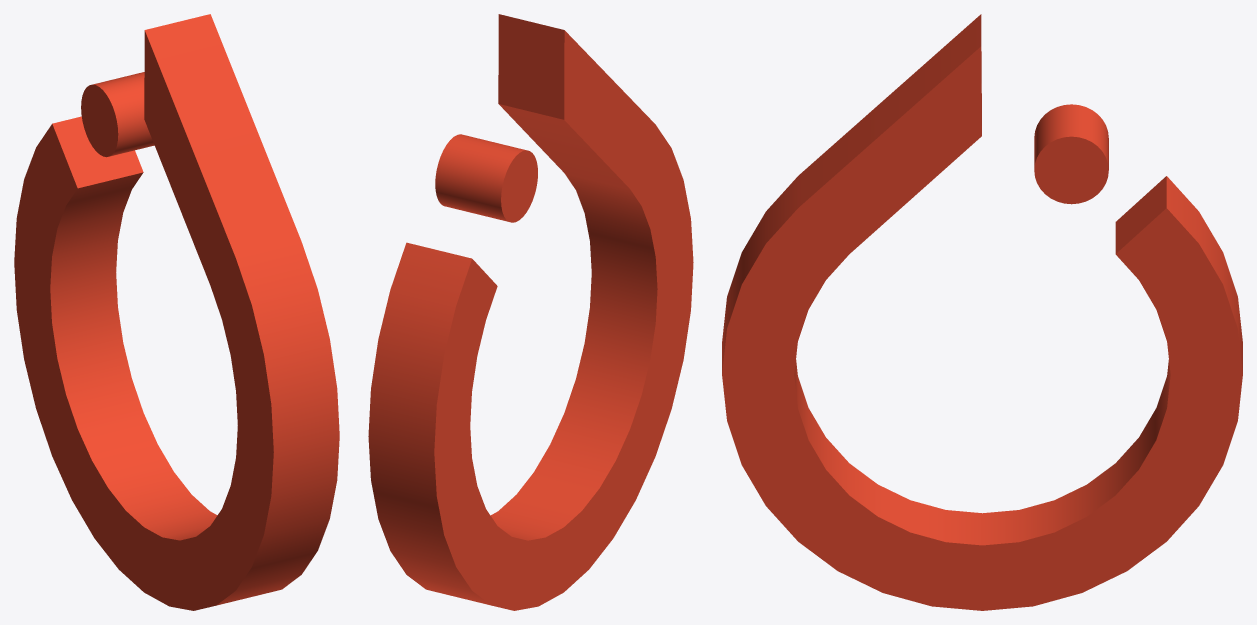
File: PyTorch.glb
3 renders of one model, left to right at view 1: azimuth 30°, elevation 25°; view 2: azimuth 150°, elevation 25°; view 3: azimuth 270°, elevation 25°, orthographic.
Parts seen in each view (by area): view 1: Circle.002; view 2: Circle.002; view 3: Circle.002.
Part boxes in pixels (x1,y1,x2,y2): Circle.002: [14, 14, 339, 610]; Circle.002: [368, 14, 693, 610]; Circle.002: [722, 14, 1242, 610].
Size of the model in its own units: 0.2813 by 2.3 by 1.92.
